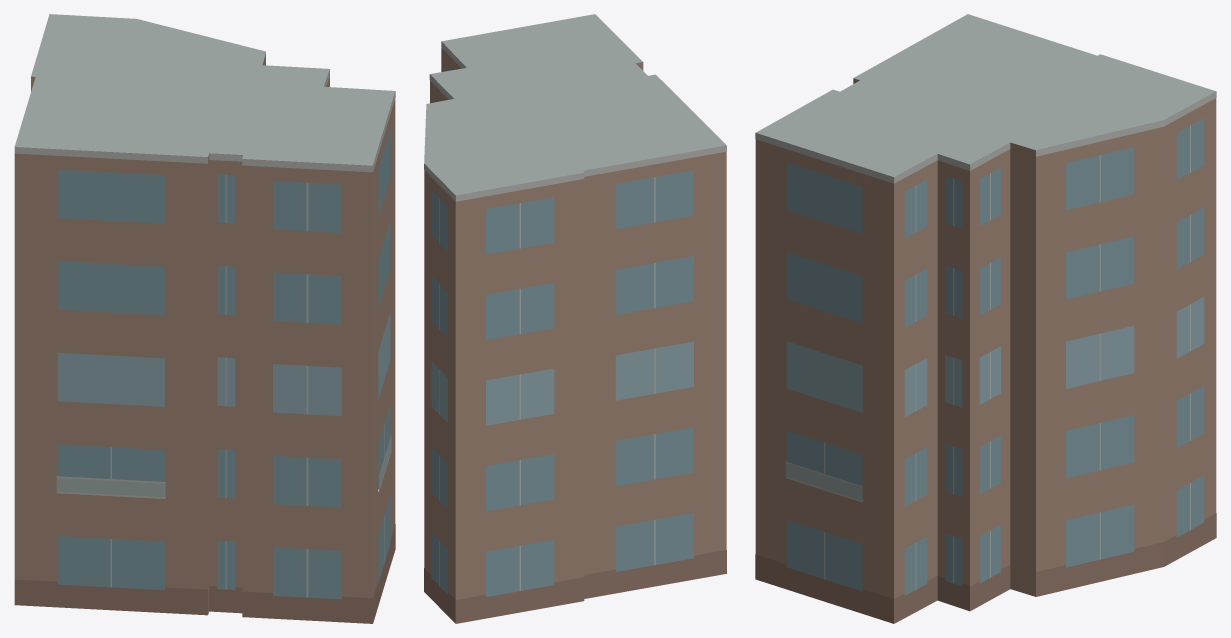
Rendered from survey-upis-32942388.glb.
The picture shows the model from 3 angles, left to right: view 1: azimuth 30°, elevation 25°; view 2: azimuth 150°, elevation 25°; view 3: azimuth 270°, elevation 25°; orthographic projection. The views are drawn at different scales.
Visible parts, largest first — view 1: survey-upis-32942388.tmp; view 2: survey-upis-32942388.tmp; view 3: survey-upis-32942388.tmp.
Boxes of the visible parts, x1,y1,x2,y2 form: survey-upis-32942388.tmp: (14,14,395,623); survey-upis-32942388.tmp: (424,14,726,623); survey-upis-32942388.tmp: (755,14,1216,623).
Size of the model in its own units: 13.25 by 16.9 by 15.81.
